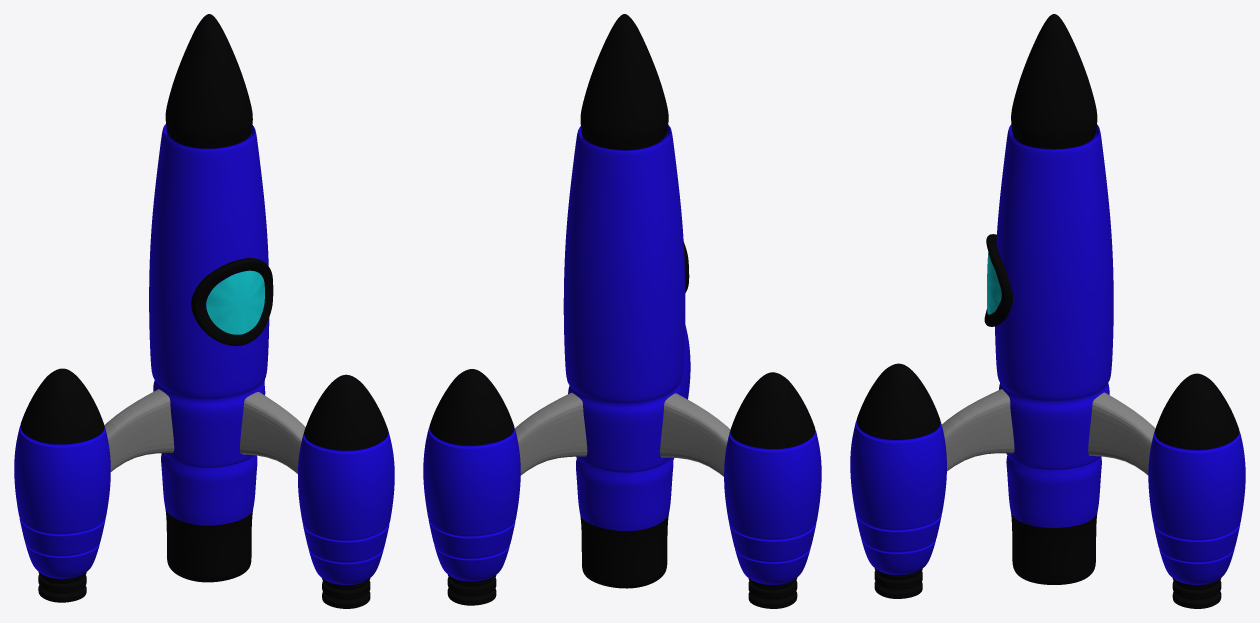
The picture shows the model from 3 angles, left to right: view 1: azimuth 30°, elevation 25°; view 2: azimuth 150°, elevation 25°; view 3: azimuth 270°, elevation 25°; orthographic projection.
Visible parts, largest first — view 1: Cube; view 2: Cube; view 3: Cube.
Part boxes in pixels (left/top/right/bottom): Cube: left=14, top=14, right=394, bottom=608; Cube: left=423, top=14, right=821, bottom=608; Cube: left=850, top=14, right=1245, bottom=608.
Size of the model in its own units: 770 by 1317 by 846.
